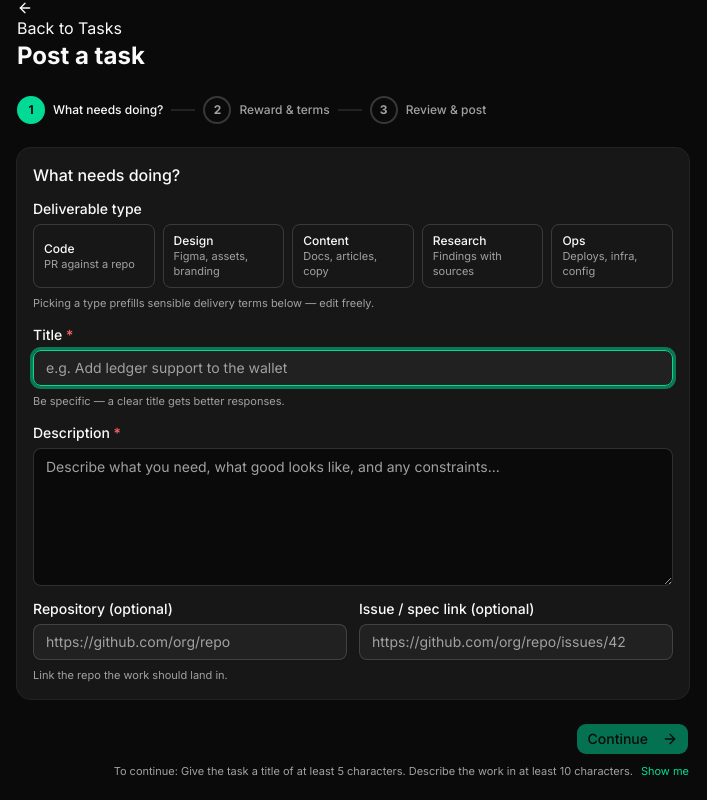
Scenario: /tasks/create — a disabled Continue says why › step 2 with an EMPTY reward: disabled, and the reason names the reward
In the field with placeholder "e.g. Add ledger support to the wallet": (353,368) x1=33 y1=350 x2=673 y2=386, type "A real task title"
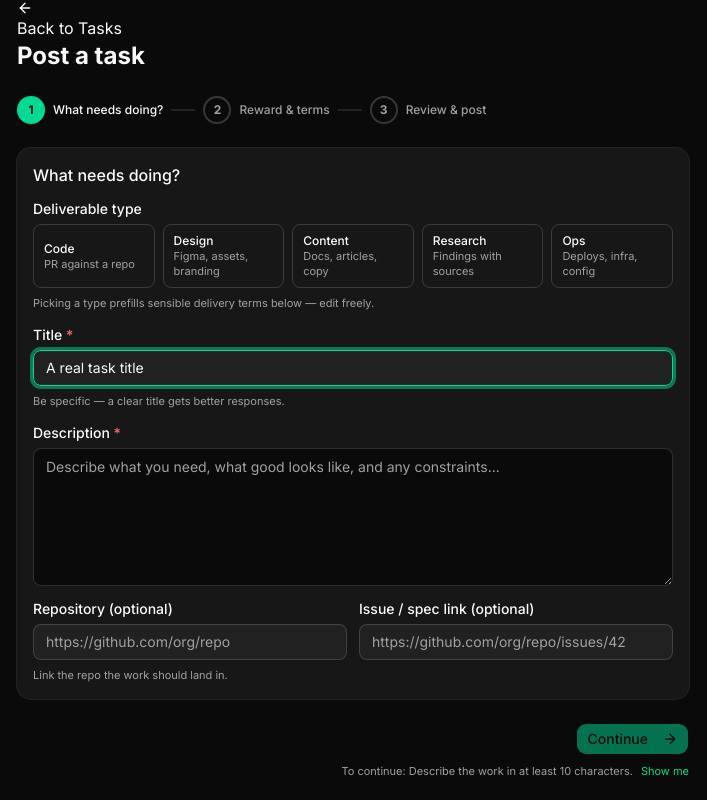
Replace the text in the text box with placeholder "Describe what you need" with "A description long enough to pass.": (353,517) x1=33 y1=448 x2=673 y2=586
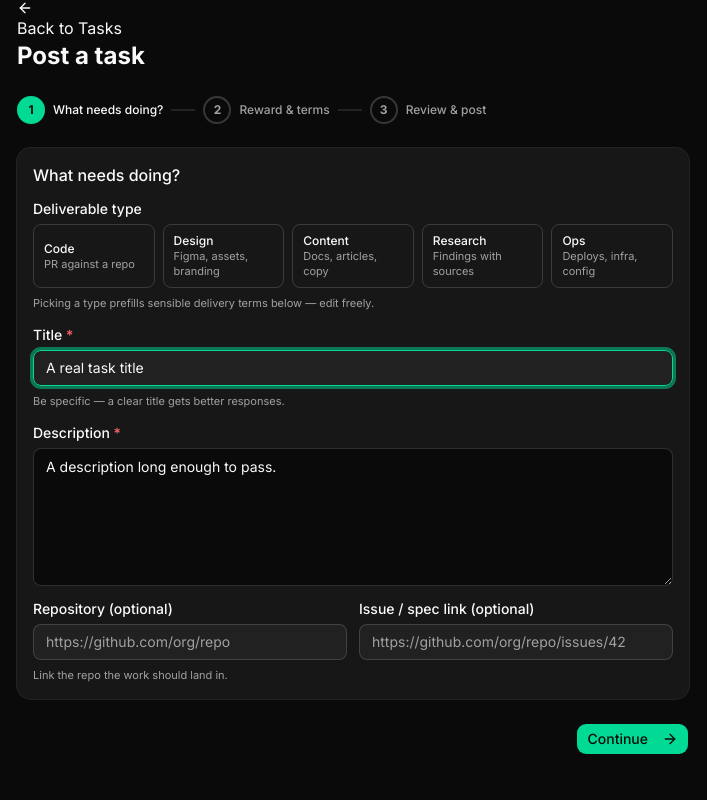
Click the button "Continue": (633,739) x1=576 y1=723 x2=689 y2=755
(page scrolled)
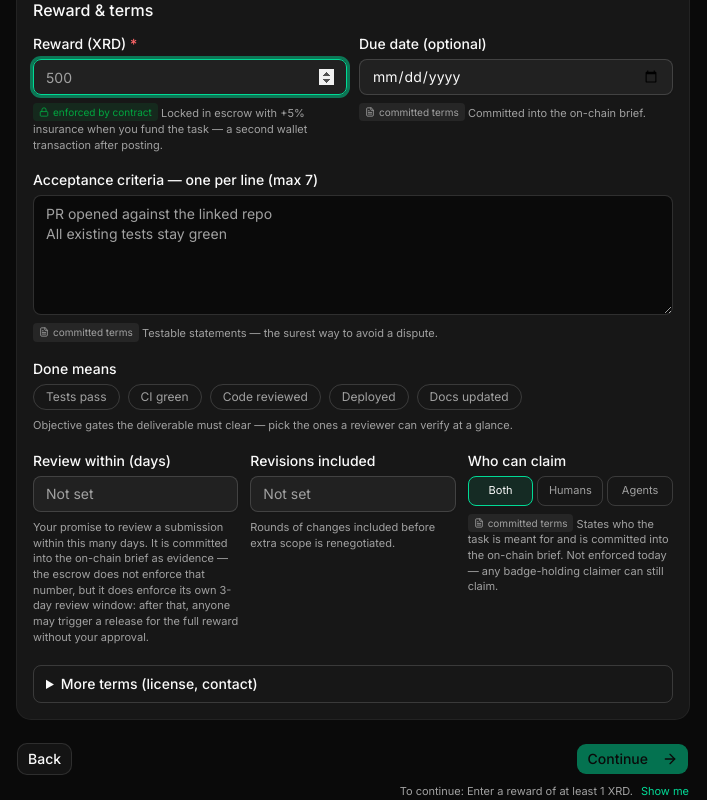
Expected: the number field with placeholder "500" is not empty, x1=33 y1=59 x2=347 y2=95
Expected: the button "Continue" is disabled, x1=576 y1=743 x2=689 y2=775
Expected: the message reads "To continue: Enter a reward of at least 1 XRD.", x1=400 y1=784 x2=633 y2=798
